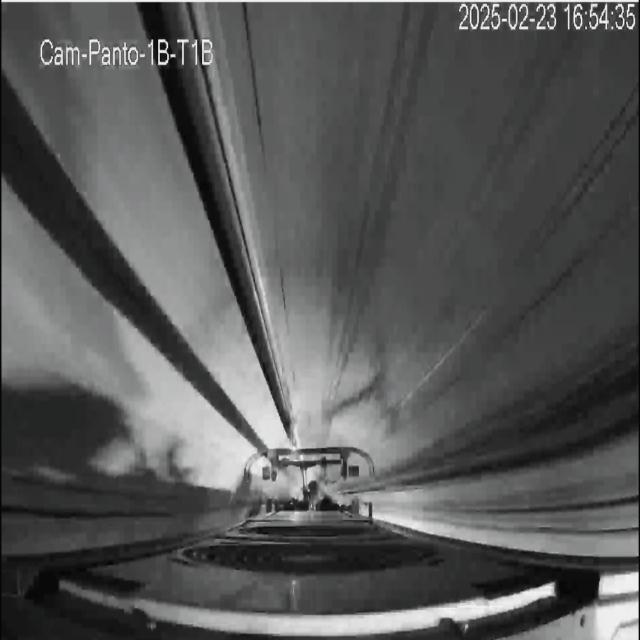Camera Stamp: (41, 35, 218, 70)
Date Stamp: (457, 3, 635, 33)
Sparks: (281, 392, 332, 477), (277, 402, 316, 473)
